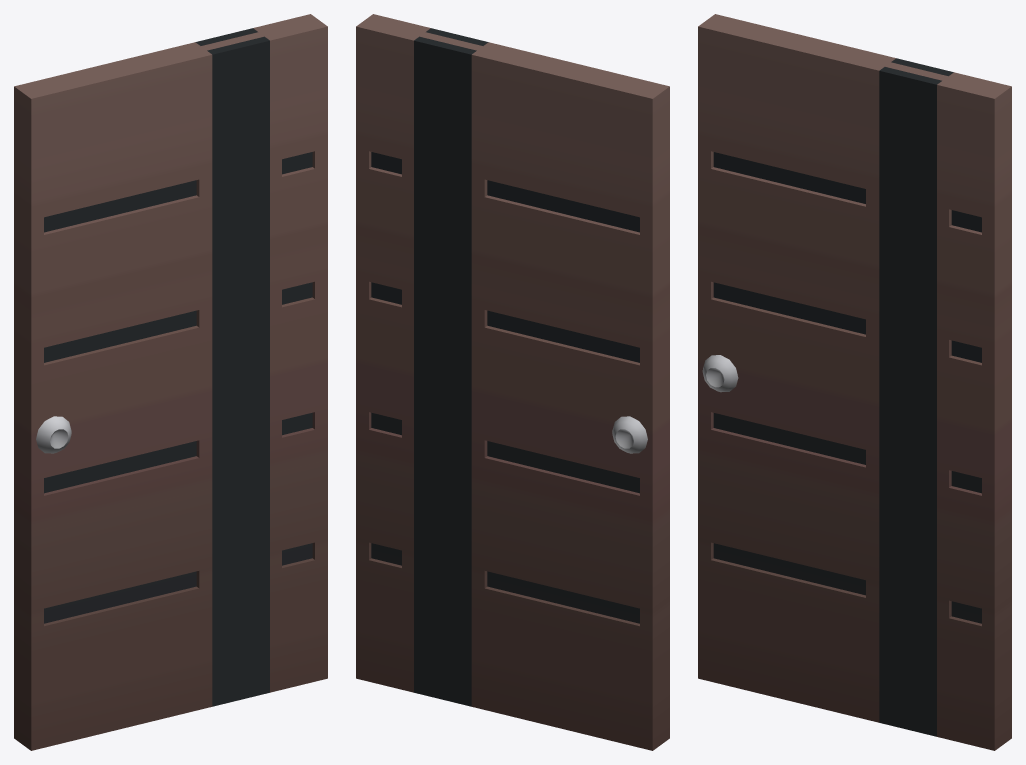
File: Door_Brown_09.glb
The picture shows the model from 3 angles, left to right: view 1: azimuth 30°, elevation 25°; view 2: azimuth 150°, elevation 25°; view 3: azimuth 330°, elevation 25°; orthographic projection.
Parts seen in each view (by area): view 1: Door_Brown_09; view 2: Door_Brown_09; view 3: Door_Brown_09.
Boxes of the visible parts, x1=… form: Door_Brown_09: x1=14, y1=14, x2=327, y2=750; Door_Brown_09: x1=356, y1=14, x2=669, y2=750; Door_Brown_09: x1=698, y1=14, x2=1011, y2=750.
Bounding box in the file's own units: 1 × 2.1 × 0.1634.
Materials: 1 (1 with a texture image).
